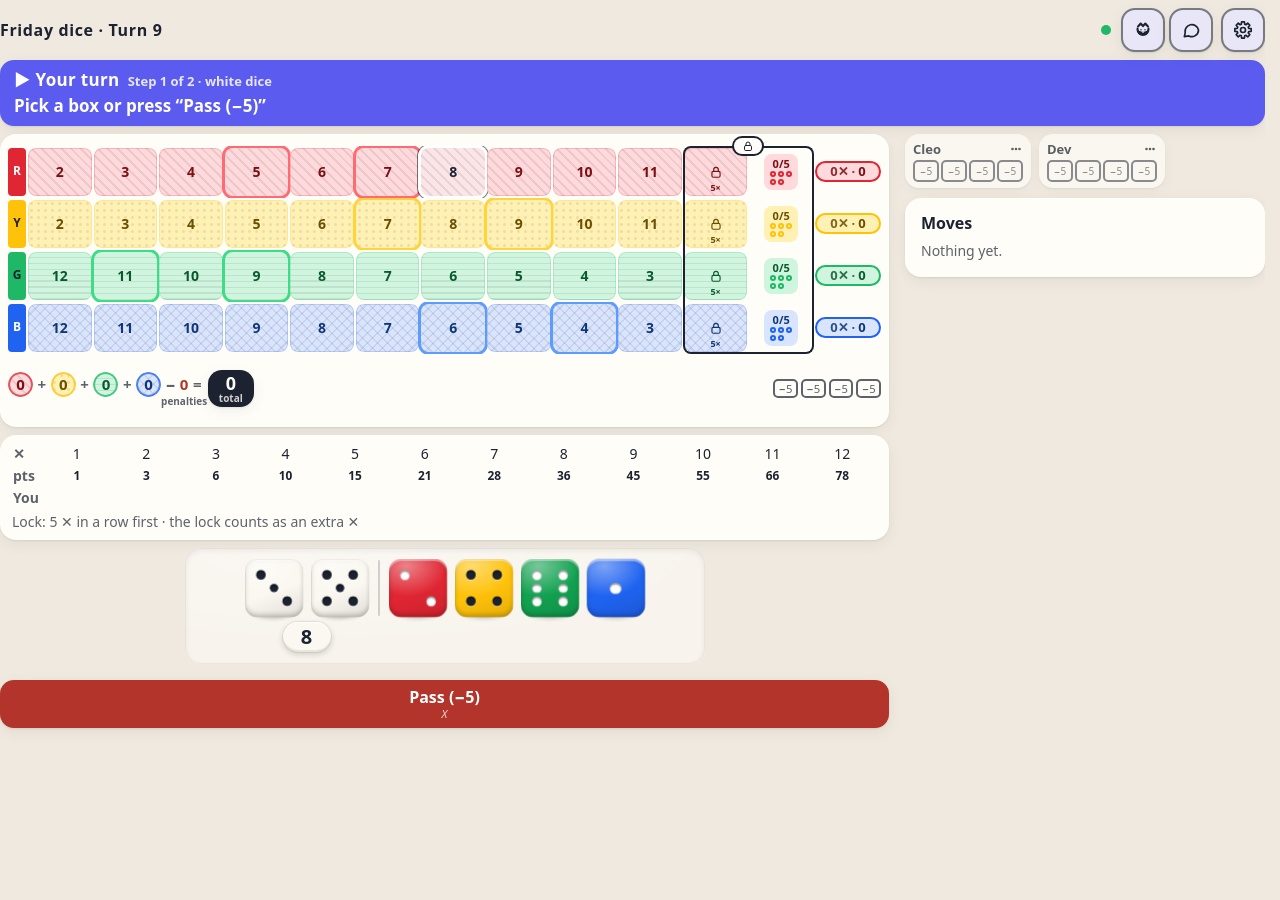
Scenario: idle nudge (T-NEW-22) › a modal suppresses it and closing the modal starts a fresh interval
Click the button named "Settings".
click(1243, 30)  # box [1221,8,1265,52]
Wait 20000 ms
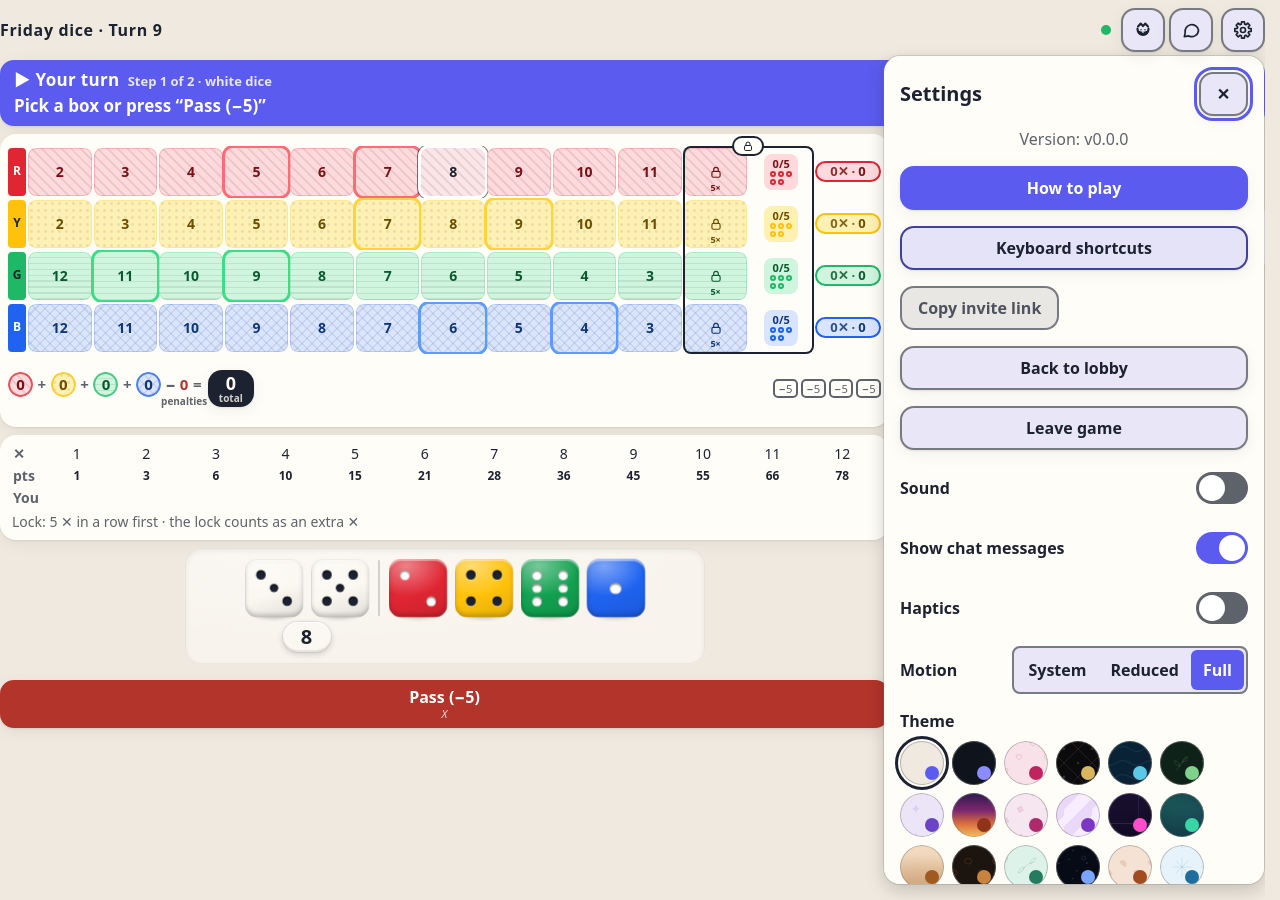
Click the button named "Close".
click(1223, 94)  # box [1199,72,1248,116]
Wait 14049 ms
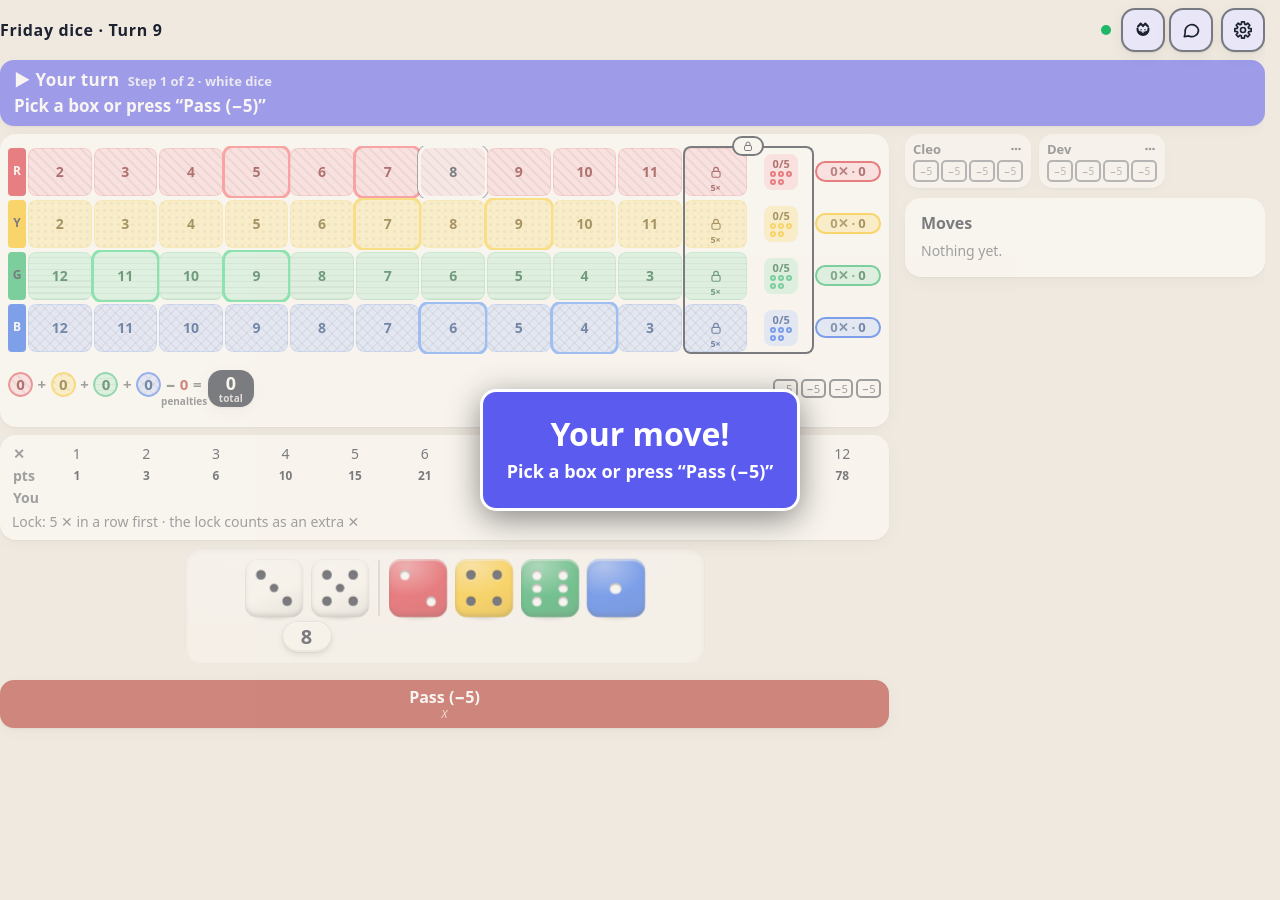
Result: the message "Your move! Pick a box or press “Pass (−5)”" is shown
